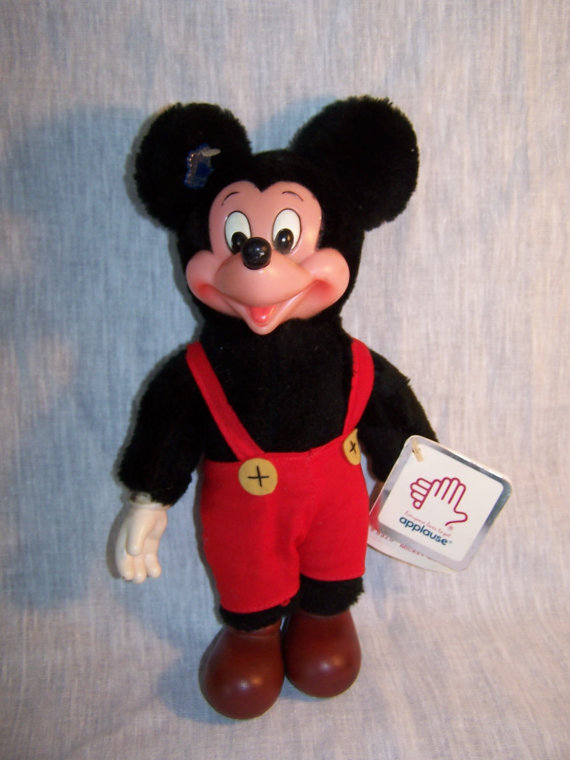Mickey: (131, 84, 422, 337)
